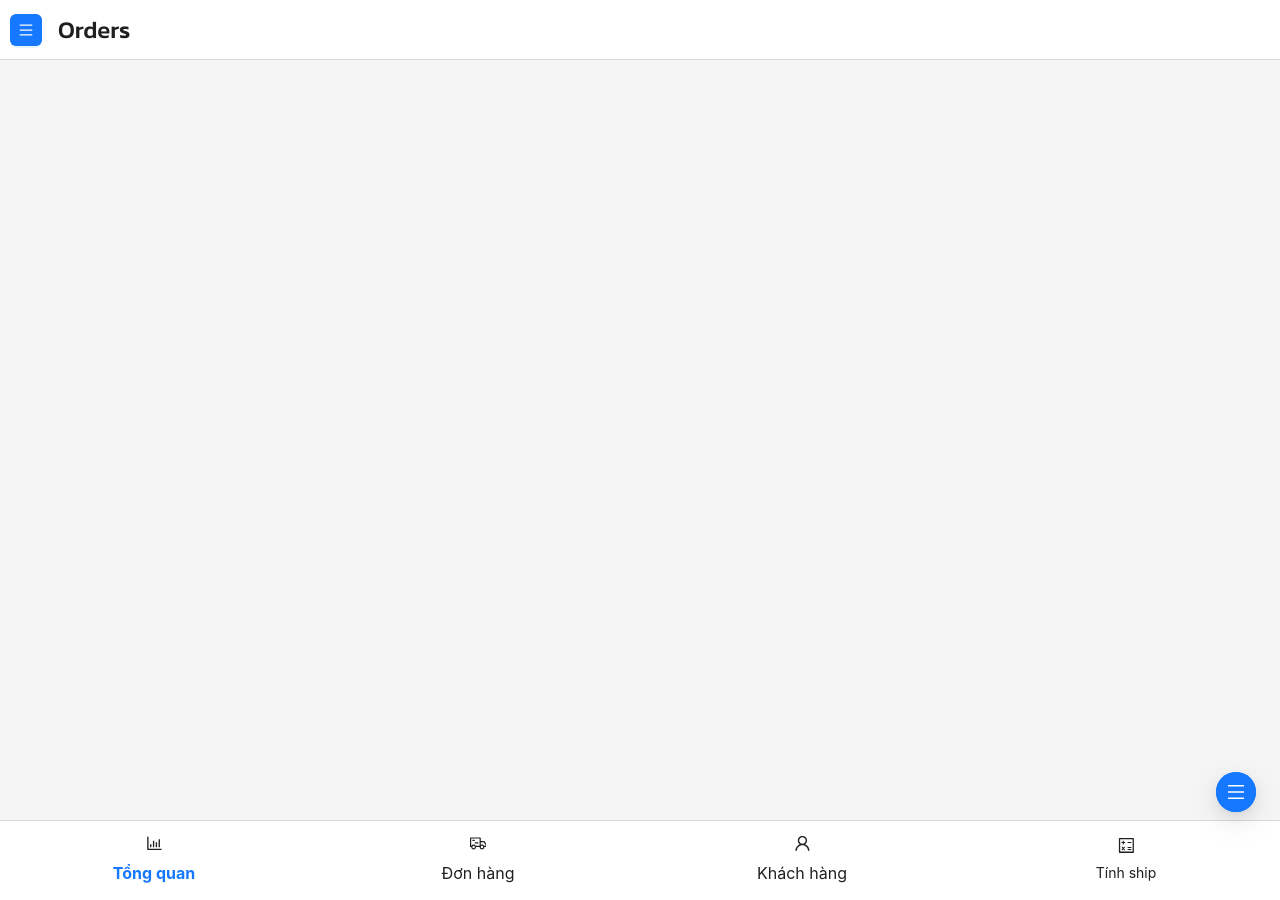
Test case: renders safe quick actions without a persistent operational overlay
What coordinates should you click on to do the following:
click the button named "Mở tác vụ nhanh"
I would click on:
 (1236, 792)
Its box is [1216,772,1256,812].
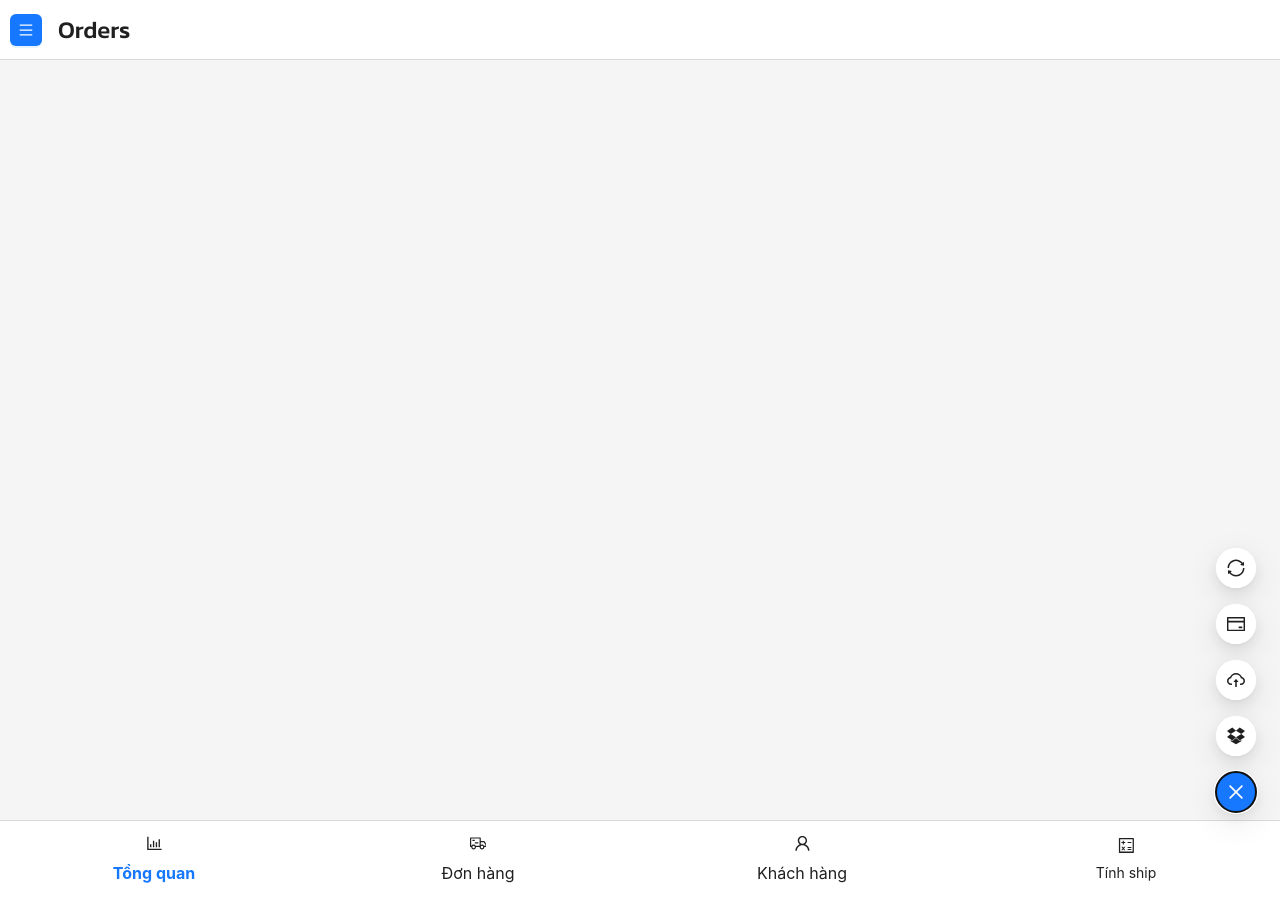
Now the button named "Xem đơn lỗi đồng bộ" is shown, box [1216,548,1256,588]
Now the button named "Danh sách COD" is shown, box [1216,604,1256,644]
Now the button named "Sao lưu dữ liệu" is shown, box [1216,660,1256,700]
